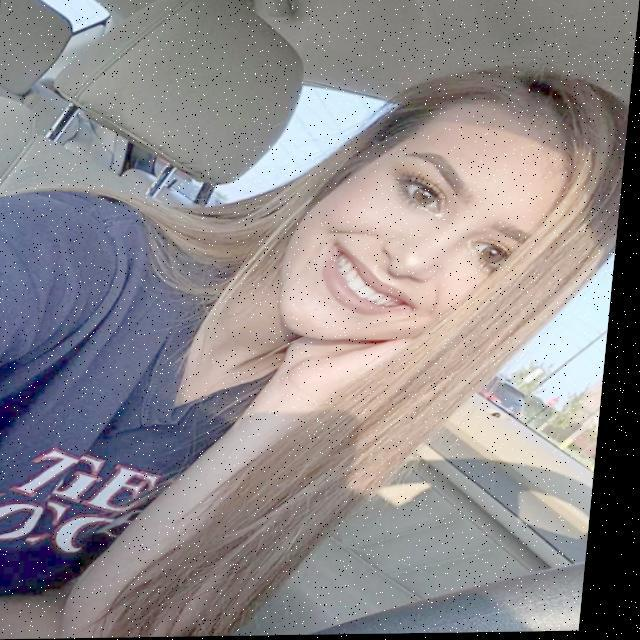noSeatbelt: (0, 204, 365, 640)
